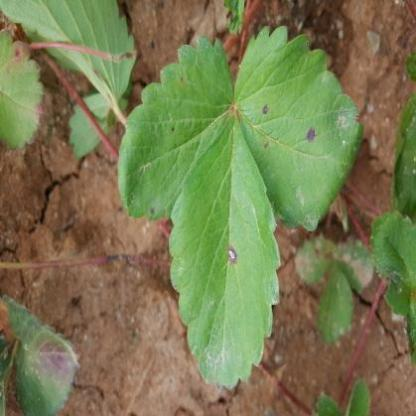Strawberry_Leaf_Spot: (167, 110, 282, 394), (235, 26, 364, 233), (118, 36, 235, 222), (0, 26, 46, 152), (294, 232, 339, 285)
